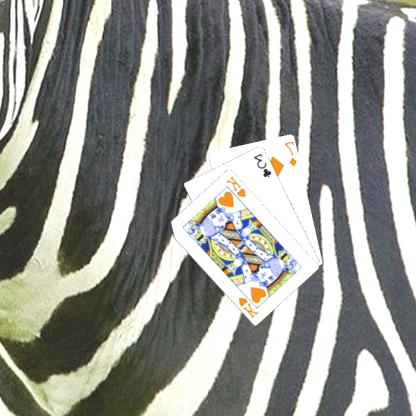3C: (252, 150, 274, 178)
7D: (284, 139, 300, 168)
KH: (237, 294, 262, 319), (225, 173, 249, 198)
